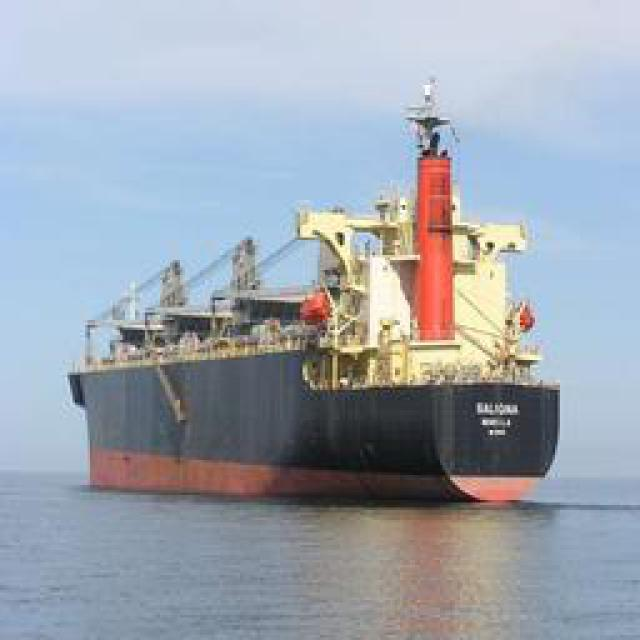Ship: (68, 42, 563, 495)
